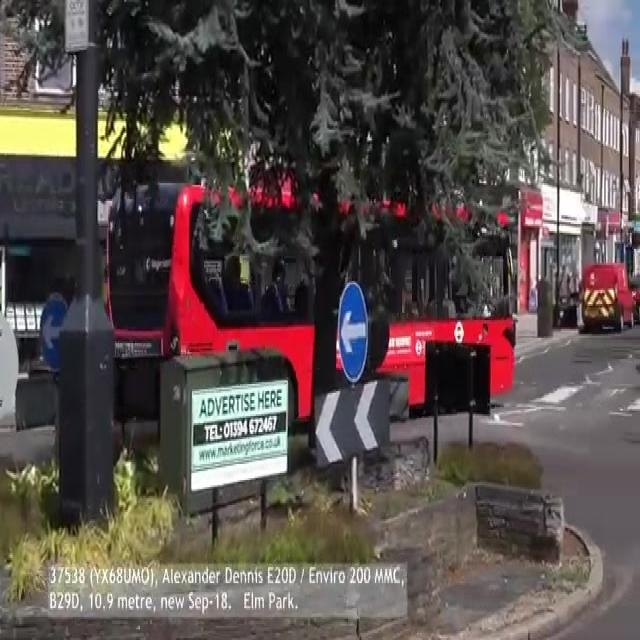Bus: (95, 154, 524, 433)
